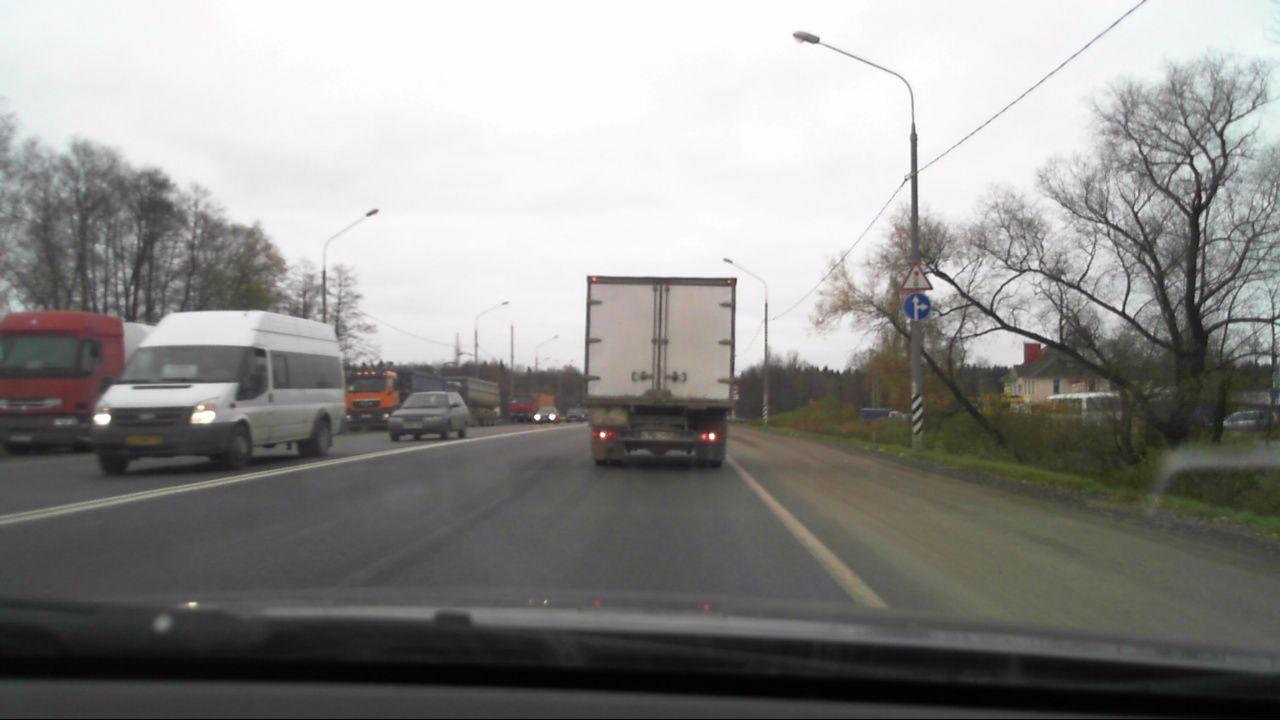1_8: (898, 263, 935, 292)
4_1_4: (901, 294, 932, 321)
